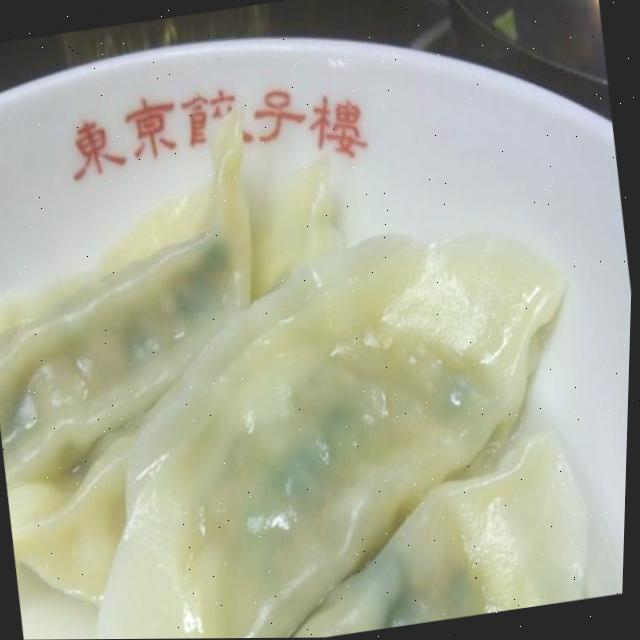带馅早点: (0, 86, 638, 640)
